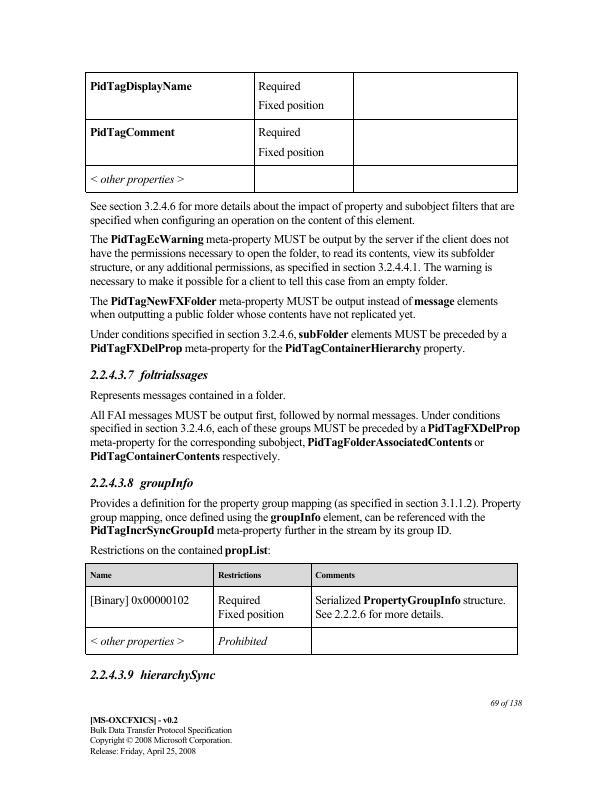table: (85, 70, 520, 195), (86, 562, 520, 658)
text: (87, 408, 522, 465), (86, 232, 512, 286), (88, 496, 522, 538), (87, 327, 509, 358), (88, 293, 500, 321), (87, 200, 517, 226), (87, 714, 233, 757), (88, 388, 287, 403), (86, 543, 274, 558), (86, 368, 210, 384), (88, 667, 218, 682), (88, 473, 193, 490), (487, 697, 524, 710)
